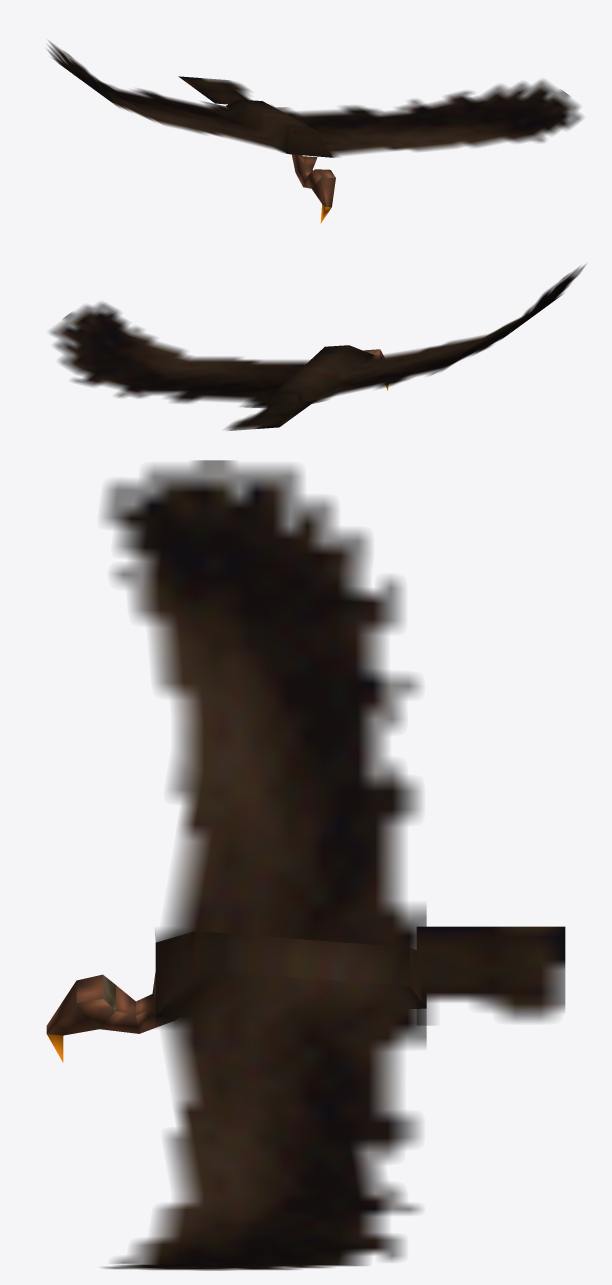
Rendered from prop-065.glb.
3 views of the same model, one above another, from view 1: azimuth 30°, elevation 25°; view 2: azimuth 150°, elevation 25°; view 3: azimuth 270°, elevation 25° (orthographic). The views are drawn at different scales.
Parts seen in each view (by area): view 1: root; view 2: root; view 3: root.
Part boxes in pixels (left/top/right/bottom): root: left=47, top=40, right=582, bottom=223; root: left=49, top=264, right=585, bottom=430; root: left=46, top=460, right=565, bottom=1270.
Bounding box in the file's own units: 0.6816 × 0.2559 × 0.3066.
Materials: 2 (2 with a texture image).
